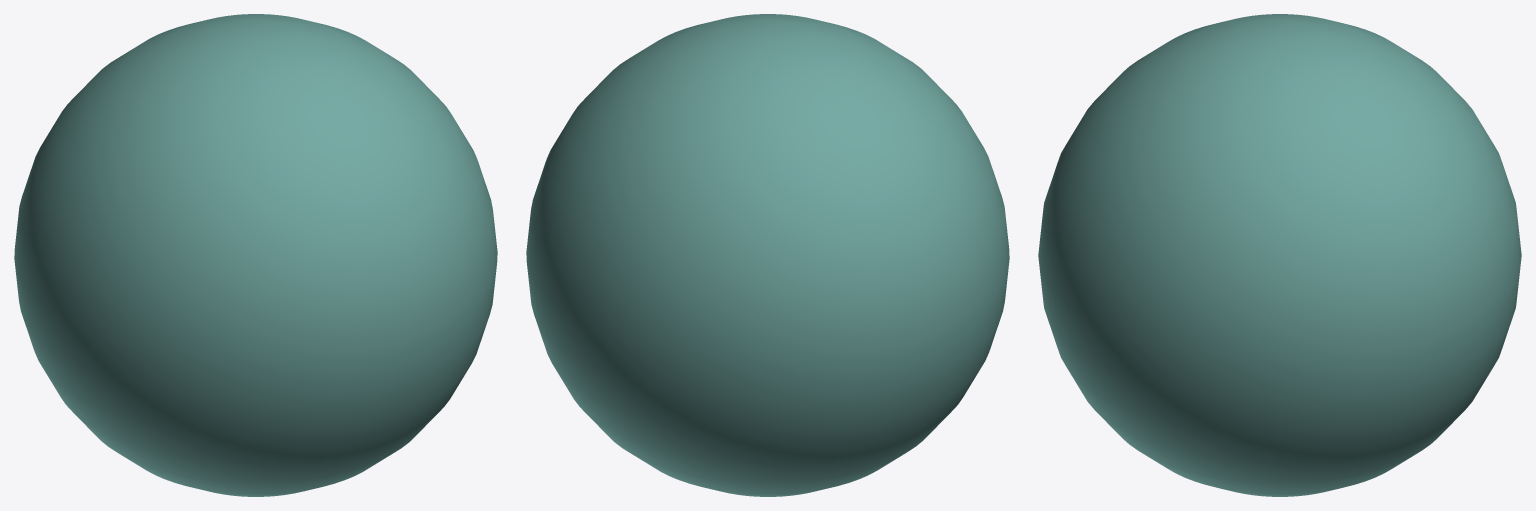
The model's file is Sharic.fbx.
3 views of the same model, side by side, from view 1: azimuth 30°, elevation 25°; view 2: azimuth 150°, elevation 25°; view 3: azimuth 270°, elevation 25° (orthographic).
Parts seen in each view (by area): view 1: Сфера; view 2: Сфера; view 3: Сфера.
Boxes of the visible parts, x1,y1,x2,y2 form: Сфера: [14, 14, 497, 496]; Сфера: [526, 14, 1009, 496]; Сфера: [1038, 14, 1521, 496].
Size of the model in its own units: 2 by 2 by 2.
